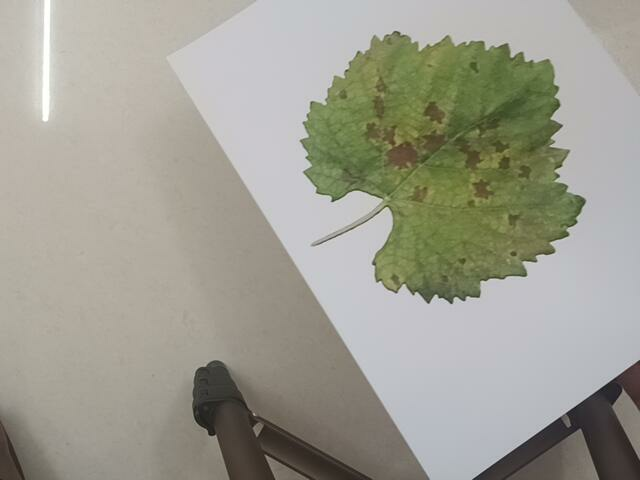Grape_Leaf_Vine_Disease: (288, 38, 584, 302)
